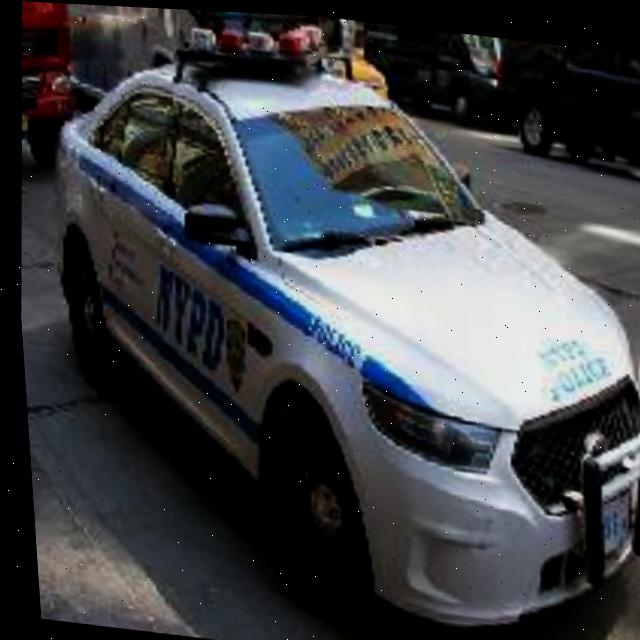emergency: (16, 12, 640, 640)
